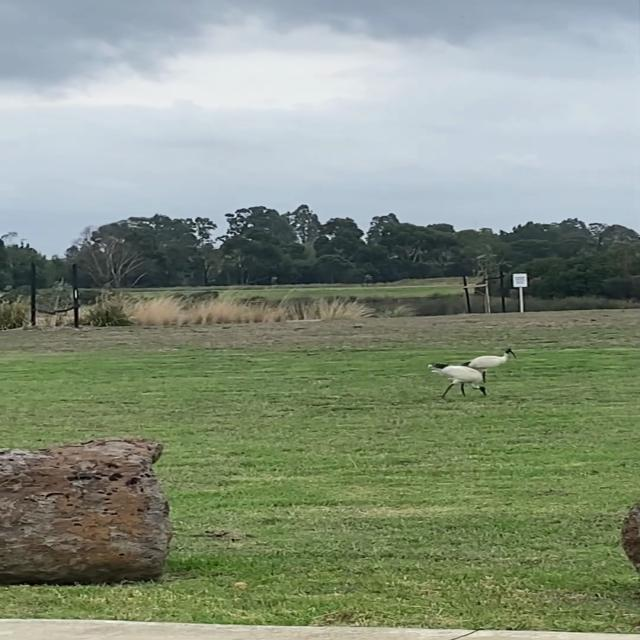Birds-Ibis: (424, 358, 492, 402), (465, 344, 520, 372)
